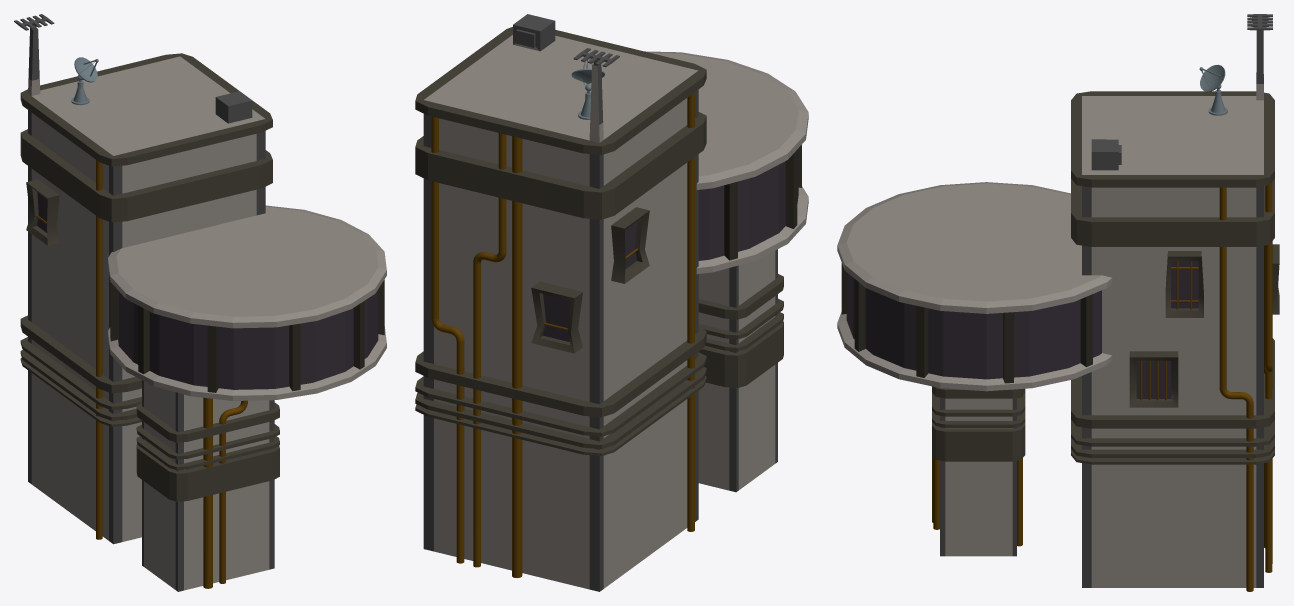
The model's file is 48_building1 (1).fbx.
3 renders of one model, left to right at view 1: azimuth 30°, elevation 25°; view 2: azimuth 150°, elevation 25°; view 3: azimuth 270°, elevation 25°, orthographic. The views are drawn at different scales.
Parts seen in each view (by area): view 1: pCube3, pCylinder1, pCube2, pCylinder100, pCube41, pCylinder3, pCylinder7, pCylinder52; view 2: pCube3, pCylinder1, pCube2, pCylinder29, pCylinder24, pCube13, pCylinder100, pCube41, pCylinder18, pCylinder14, pCylinder52; view 3: pCube3, pCylinder1, pCube2, pCylinder30, pCube15, pCube14, pCylinder14, pCylinder18, pCylinder52.
Part boxes in pixels (x1,y1,x2,y2): pCube3: (14,14,272,544); pCylinder1: (108,205,386,400); pCube2: (136,380,279,591); pCylinder100: (96,160,102,539); pCube41: (26,179,59,245); pCylinder3: (203,397,212,588); pCylinder7: (219,422,225,583); pCylinder52: (71,57,98,105); pCube3: (415,14,706,591); pCylinder1: (645,51,808,273); pCube2: (698,249,783,492); pCylinder29: (512,136,522,577); pCylinder24: (473,133,506,567); pCube13: (531,281,582,353); pCylinder100: (687,92,694,531); pCube41: (611,207,649,283); pCylinder18: (456,341,464,563); pCylinder14: (431,116,438,319); pCylinder52: (571,58,604,119); pCube3: (1071,14,1274,587); pCylinder1: (837,182,1112,391); pCube2: (932,386,1025,556); pCylinder30: (1219,187,1253,591); pCube15: (1129,351,1178,407); pCube14: (1165,251,1203,317); pCylinder14: (1265,182,1272,365); pCylinder18: (1265,370,1272,572); pCylinder52: (1199,64,1227,115).
Bounding box in the file's own units: 5.31 × 9.66 × 7.87.
